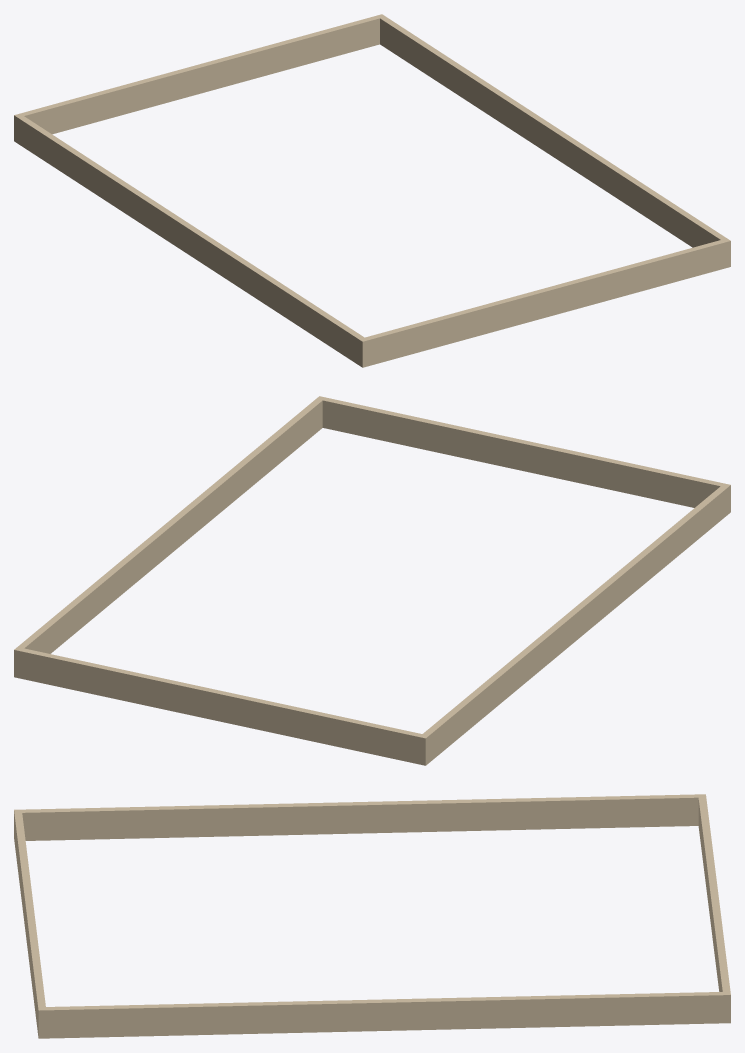
3 renders of one model, top to bottom at view 1: azimuth 30°, elevation 25°; view 2: azimuth 150°, elevation 25°; view 3: azimuth 270°, elevation 25°, orthographic. The views are drawn at different scales.
Visible parts, largest first — view 1: SM_f8a35122b2380d9ff9fa; view 2: SM_f8a35122b2380d9ff9fa; view 3: SM_f8a35122b2380d9ff9fa.
Boxes of the visible parts, x1,y1,x2,y2 form: SM_f8a35122b2380d9ff9fa: (14, 14, 730, 367); SM_f8a35122b2380d9ff9fa: (14, 396, 730, 765); SM_f8a35122b2380d9ff9fa: (14, 794, 730, 1038).
Size of the model in its own units: 11.75 by 16.46 by 0.715.
